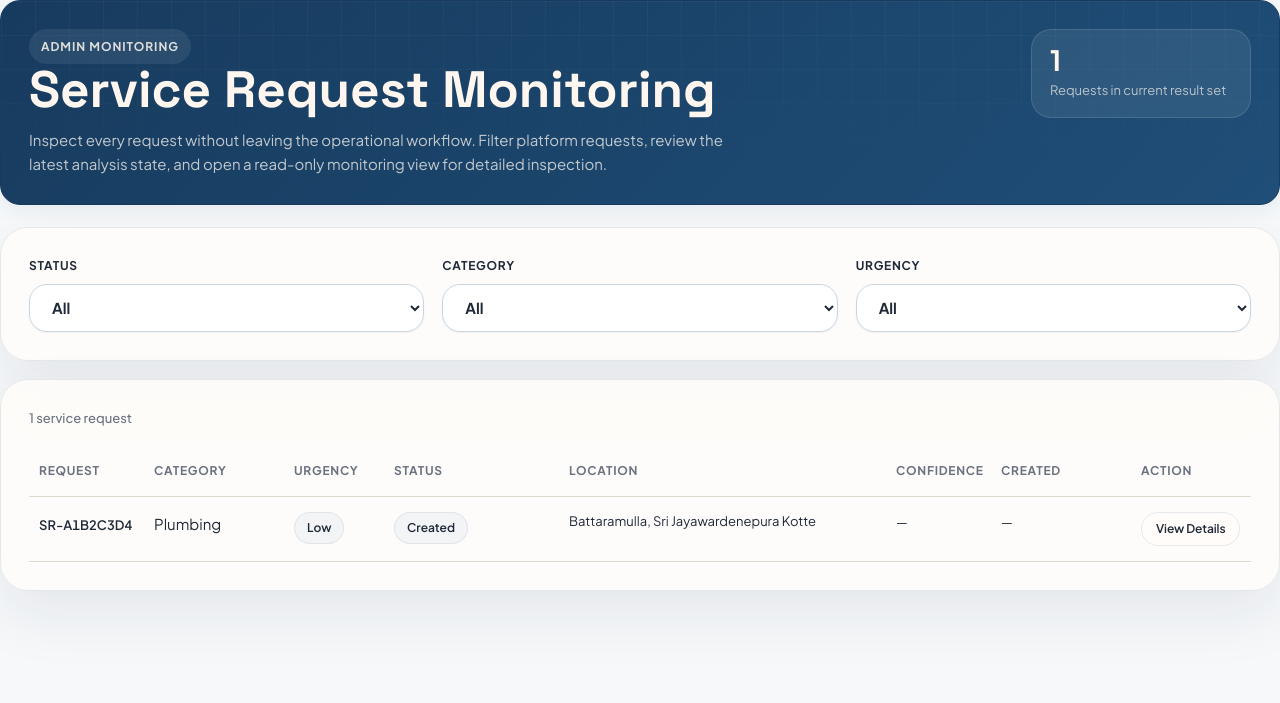
it: Persisted Admin location presentation › uses fresh Admin detail data and makes only the two Admin GET requests
Click the button "View Details" at (1191, 529), box left=1141, top=512, right=1240, bottom=546
(page scrolled)
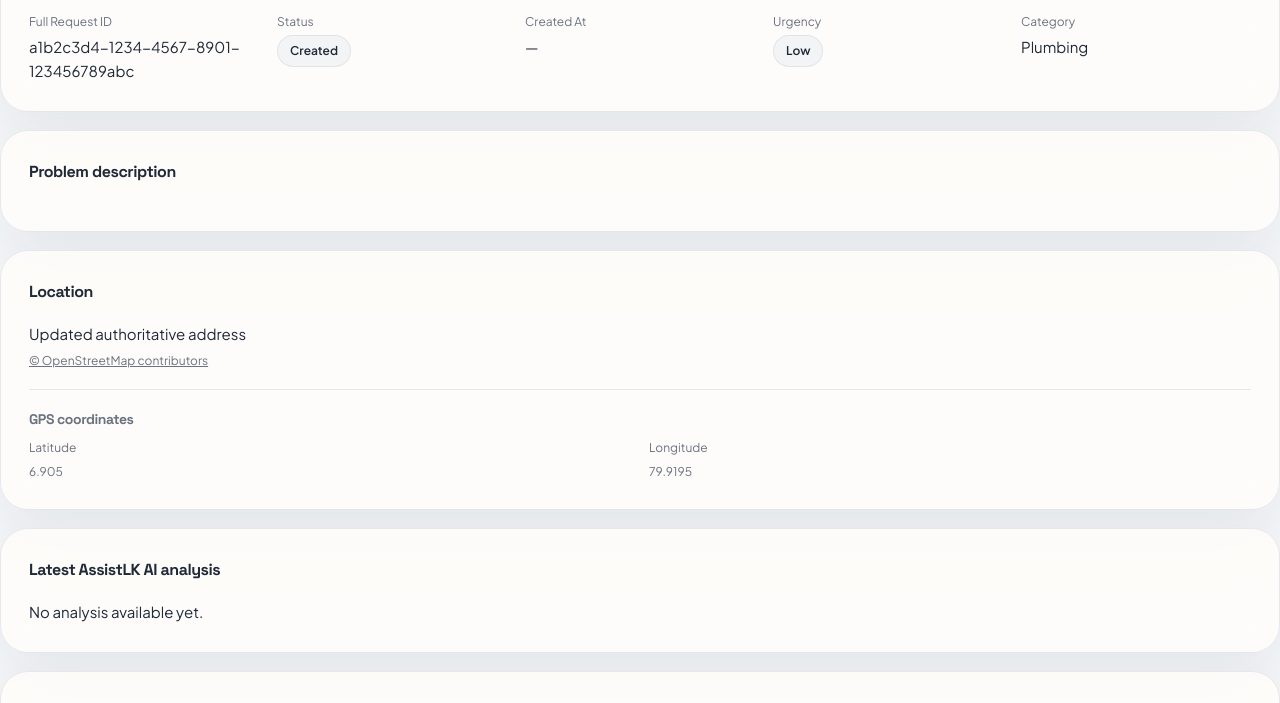
Expected: the text "a1b2c3d4-1234-4567-8901-123456789abc" is shown, left=29, top=35, right=259, bottom=83
Expected: the text "Updated authoritative address" is shown, left=29, top=324, right=246, bottom=342
Expected: the link "© OpenStreetMap contributors" is shown, left=29, top=351, right=208, bottom=370
